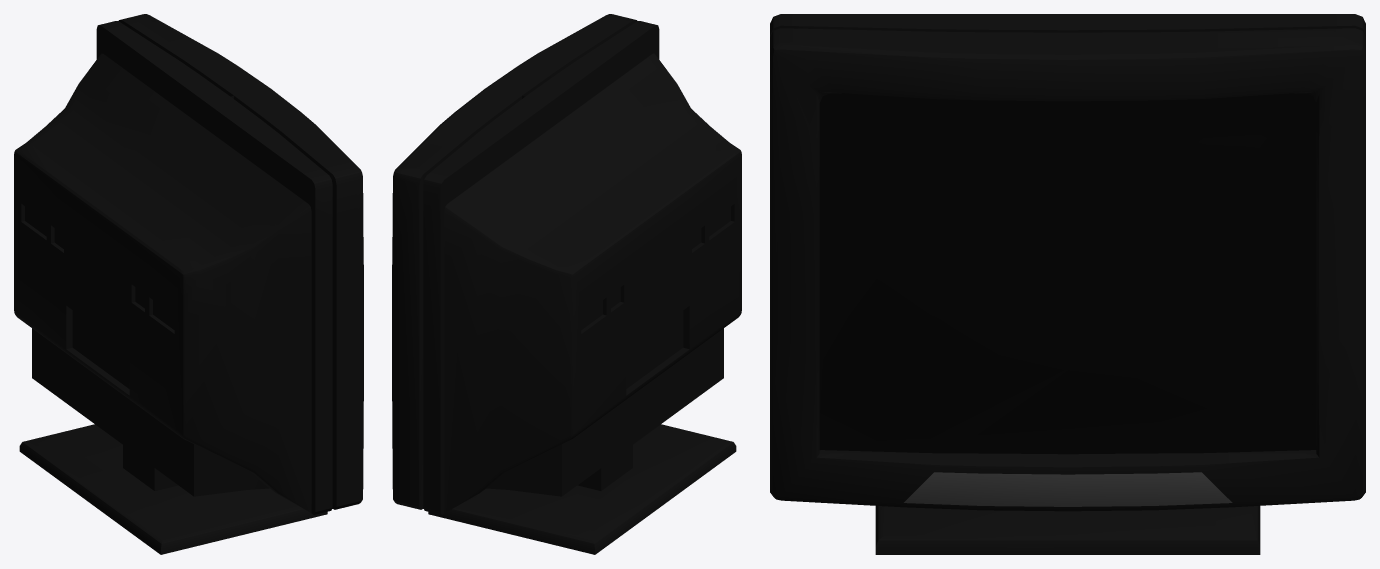
File: monitor-01.glb
3 renders of one model, left to right at view 1: azimuth 30°, elevation 25°; view 2: azimuth 150°, elevation 25°; view 3: azimuth 270°, elevation 25°, orthographic. The views are drawn at different scales.
Parts seen in each view (by area): view 1: Mesh_Monitor_01; view 2: Mesh_Monitor_01; view 3: Mesh_Monitor_01.
Part boxes in pixels (x1,y1,x2,y2): Mesh_Monitor_01: [14, 14, 363, 554]; Mesh_Monitor_01: [392, 14, 741, 554]; Mesh_Monitor_01: [770, 14, 1365, 554].
Bounding box in the file's own units: 0.2917 × 0.5629 × 0.5994.
Materials: 1 (1 with a texture image).
